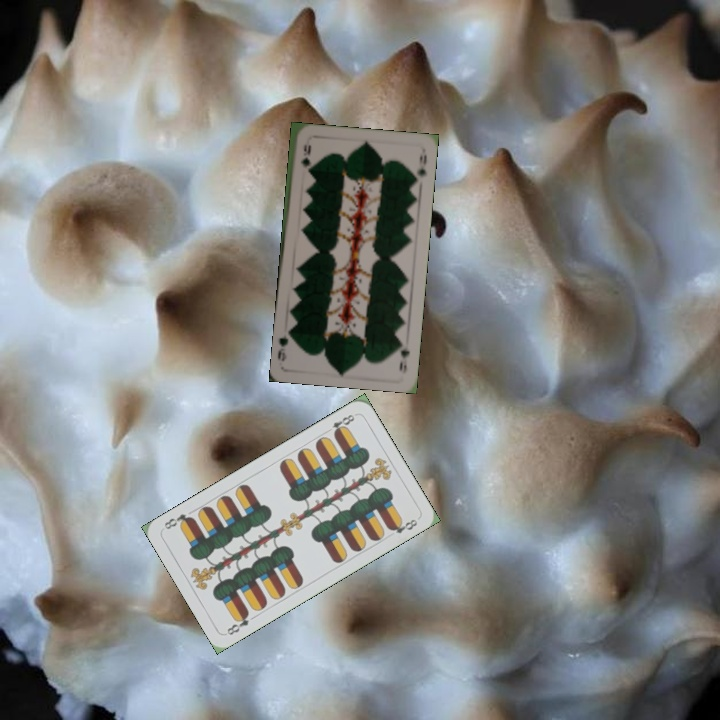E8: (321, 410, 359, 438), (223, 608, 252, 638)
G9: (395, 335, 412, 376), (297, 140, 312, 170)
